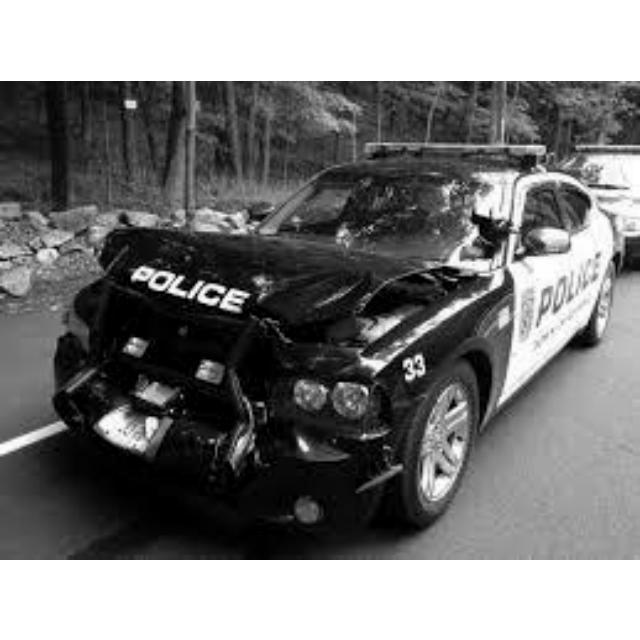bonnet-dent: (107, 224, 438, 335)
front-bumper-dent: (73, 372, 312, 495)
